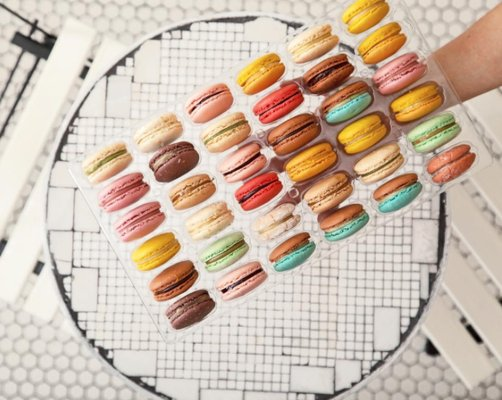burger: (81, 139, 133, 186), (320, 80, 374, 125), (389, 81, 444, 124), (283, 142, 338, 184), (374, 52, 427, 95), (407, 112, 461, 154), (234, 52, 286, 95), (303, 170, 353, 214), (425, 143, 477, 185), (253, 82, 304, 124), (133, 112, 184, 154), (149, 141, 199, 183), (114, 202, 165, 243), (354, 143, 405, 183), (148, 260, 198, 300), (201, 114, 251, 154), (372, 173, 422, 212), (252, 203, 300, 242), (272, 119, 321, 157), (111, 199, 162, 235), (98, 177, 150, 212), (186, 87, 234, 124), (304, 60, 354, 94), (266, 113, 315, 147), (95, 171, 144, 205), (214, 261, 264, 294), (234, 171, 281, 206), (217, 140, 263, 175), (411, 122, 461, 154), (86, 152, 134, 185), (357, 153, 405, 186), (425, 143, 471, 177), (221, 152, 268, 185), (239, 176, 283, 211), (268, 231, 311, 265), (372, 172, 418, 203), (317, 203, 365, 232)
